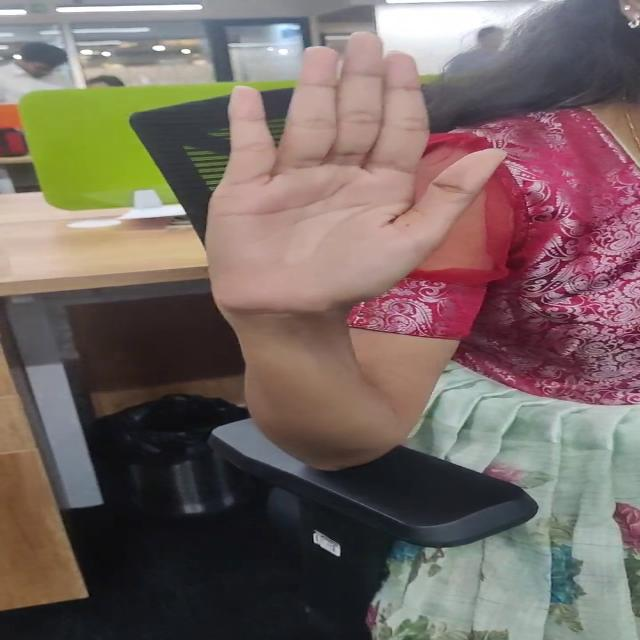no-gloves: (192, 24, 522, 328)
